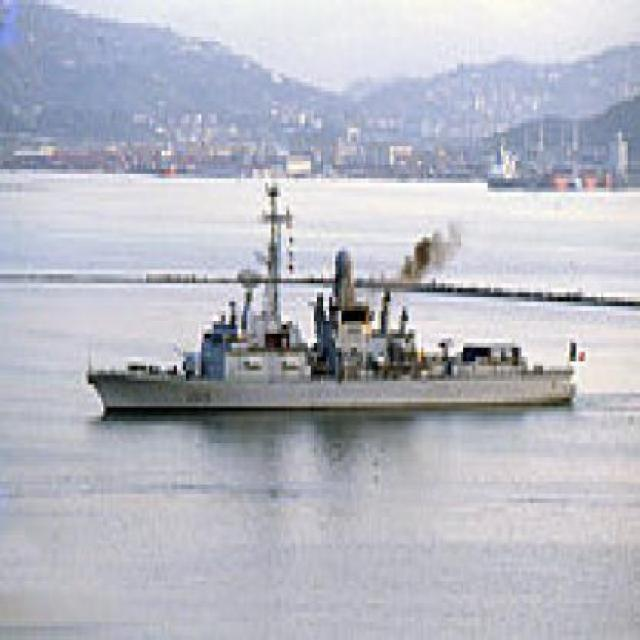warship2: (84, 151, 587, 422)
